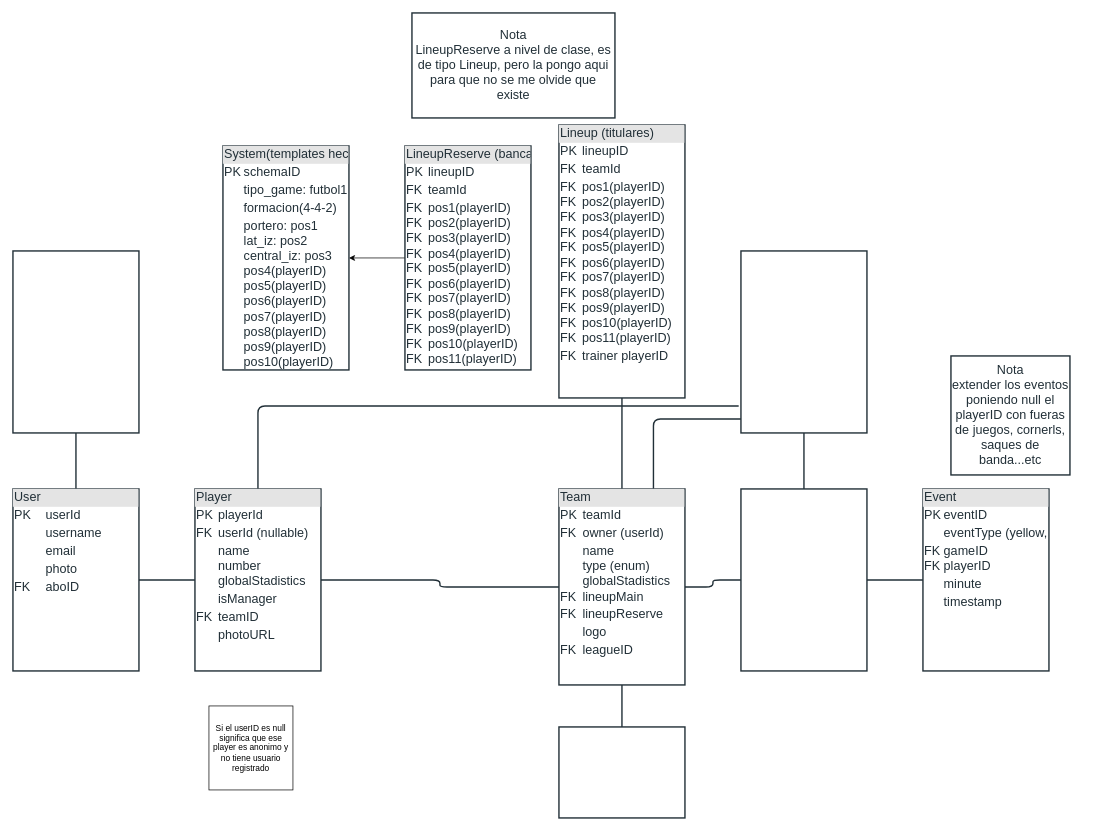
The diagram is 1116 pixels wide and 830 high, and some of its shapes have lost their labels. The centre of each missing label's shape, as x and y in pixels:
Abo PK aboID type cost rules: {}: the point at 75,341
Game PK gameID score FK FK teamLocal teamVisitant: the point at 803,579
League PK LeagueID city name: the point at 621,772
Statistics PK id FK externalID type (player, team, game) value: {}: the point at 803,341
